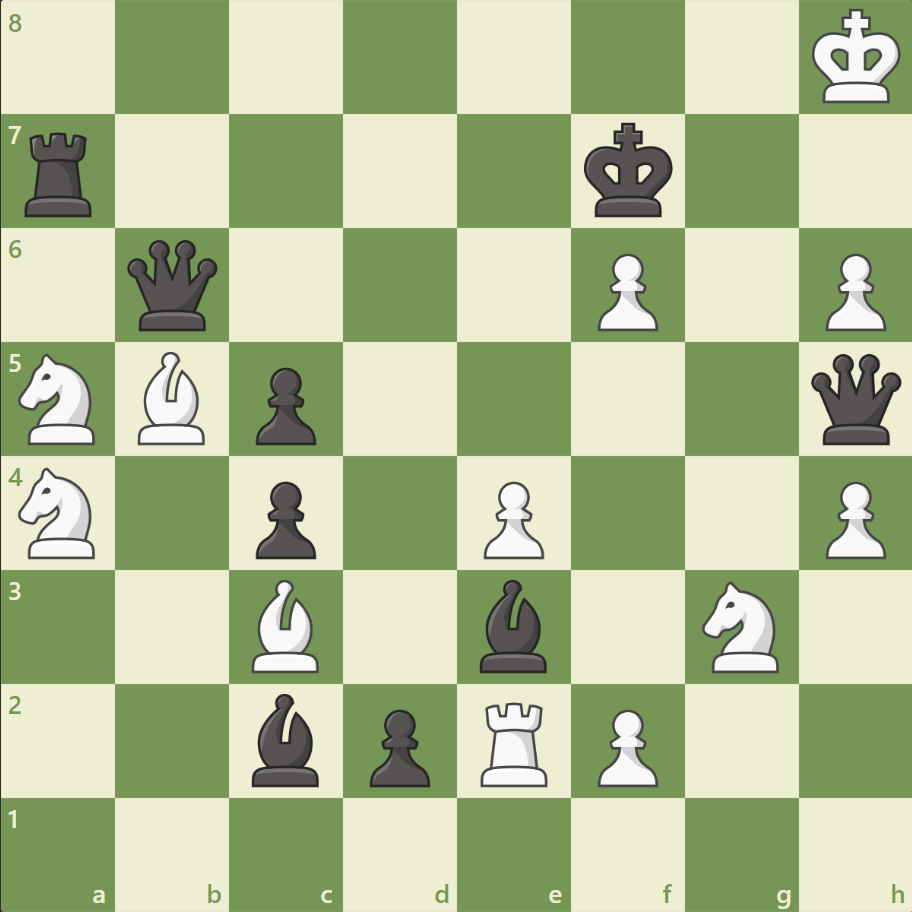B: (131, 347, 215, 449), (244, 574, 328, 676)
K: (806, 4, 906, 112)
N: (11, 461, 108, 564), (11, 348, 108, 450), (692, 575, 789, 677)
P: (474, 473, 549, 564), (588, 246, 662, 337), (815, 246, 889, 337), (815, 473, 889, 564), (588, 700, 662, 791)
R: (473, 693, 556, 790)
b: (244, 687, 328, 790), (471, 574, 555, 676)
k: (579, 117, 679, 225)
p: (247, 359, 322, 450), (247, 473, 322, 564), (361, 700, 435, 791)
q: (805, 349, 904, 449), (124, 236, 223, 335)
r: (19, 125, 102, 222)
